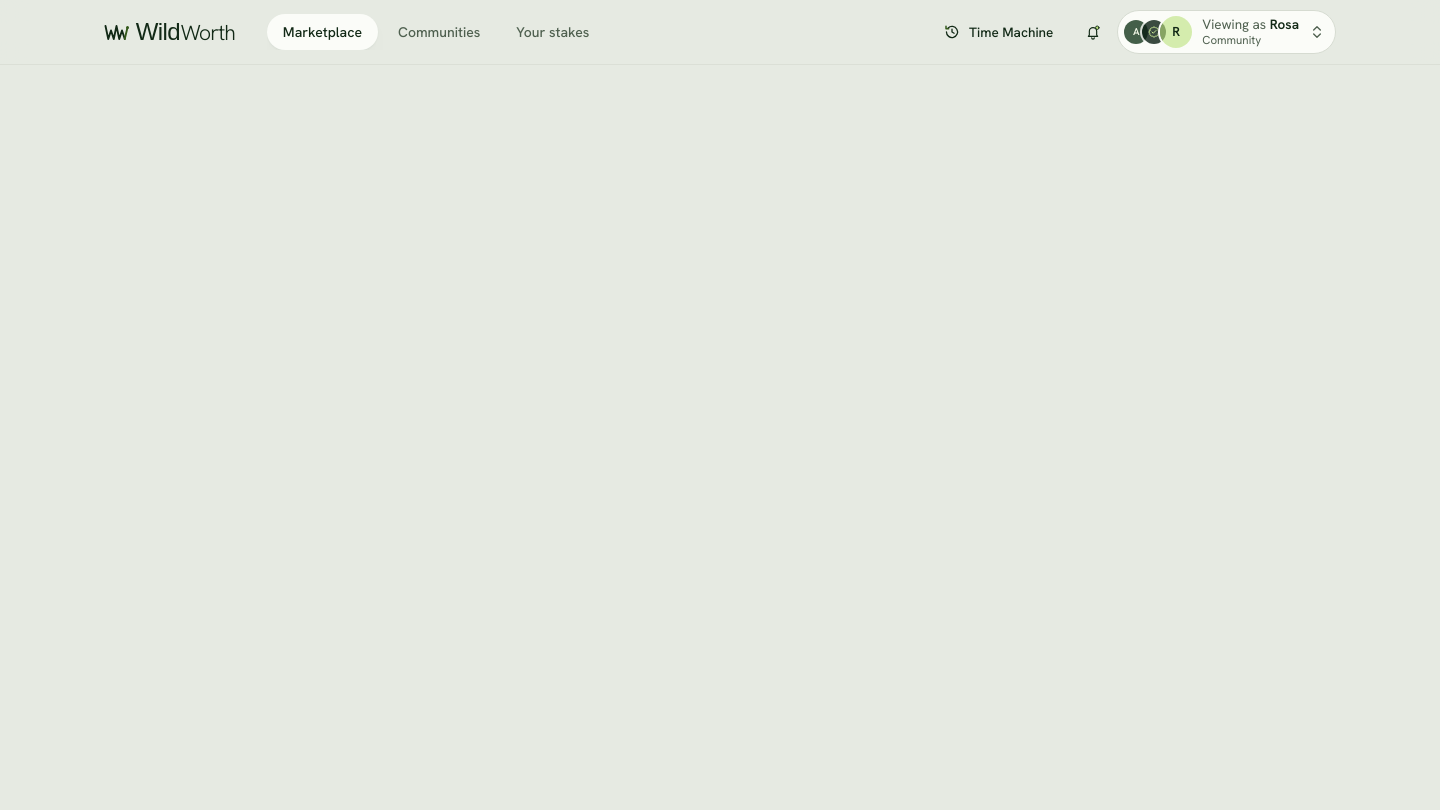
Test: the persona menu, when something fails › goes home only once the sandbox has started over
The image size is (1440, 810).
Press the mouse on the button "Viewing as Rosa Community" at (1227, 32), box [1117, 10, 1336, 54]
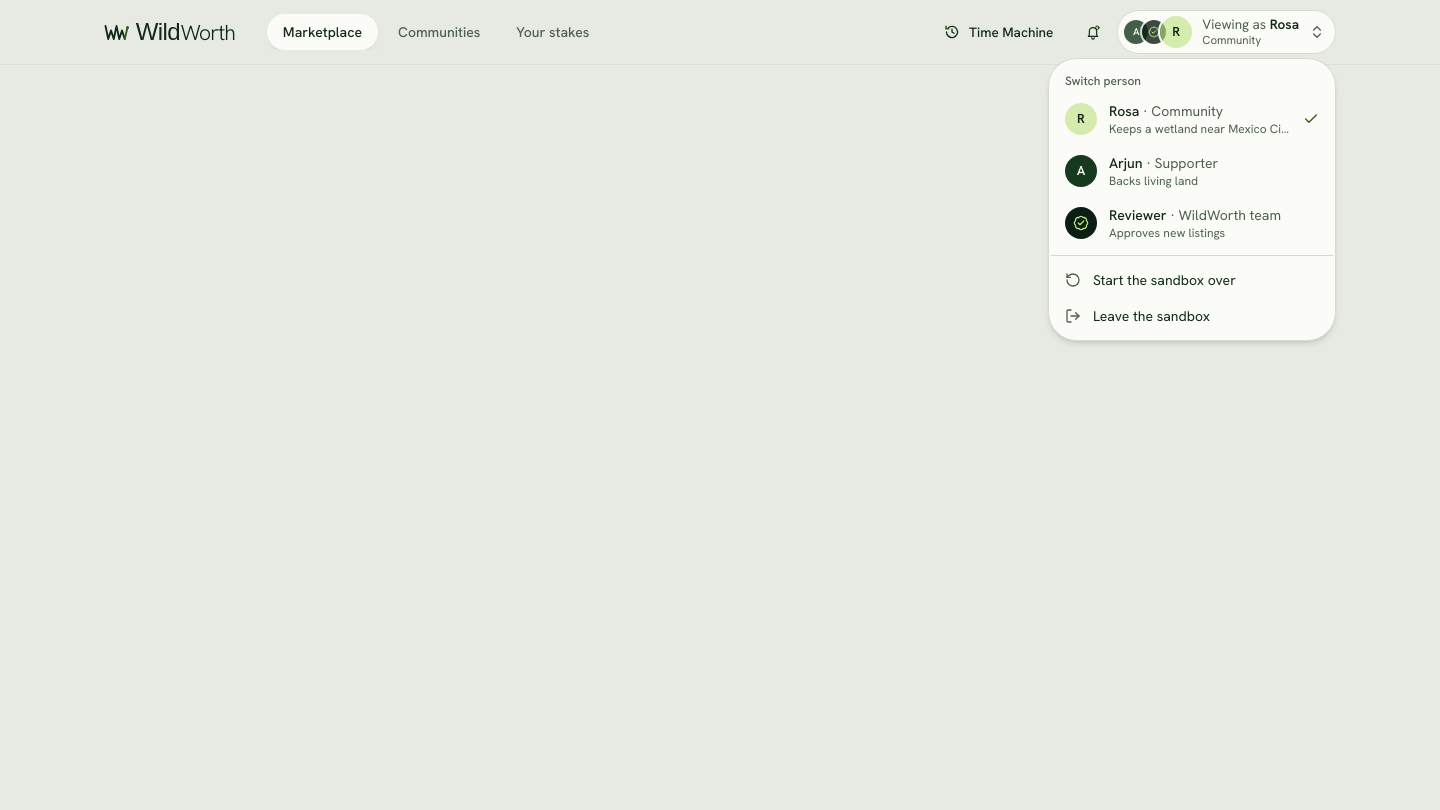
Click the menu item "Start the sandbox over" at (1150, 280), box [1065, 271, 1236, 289]
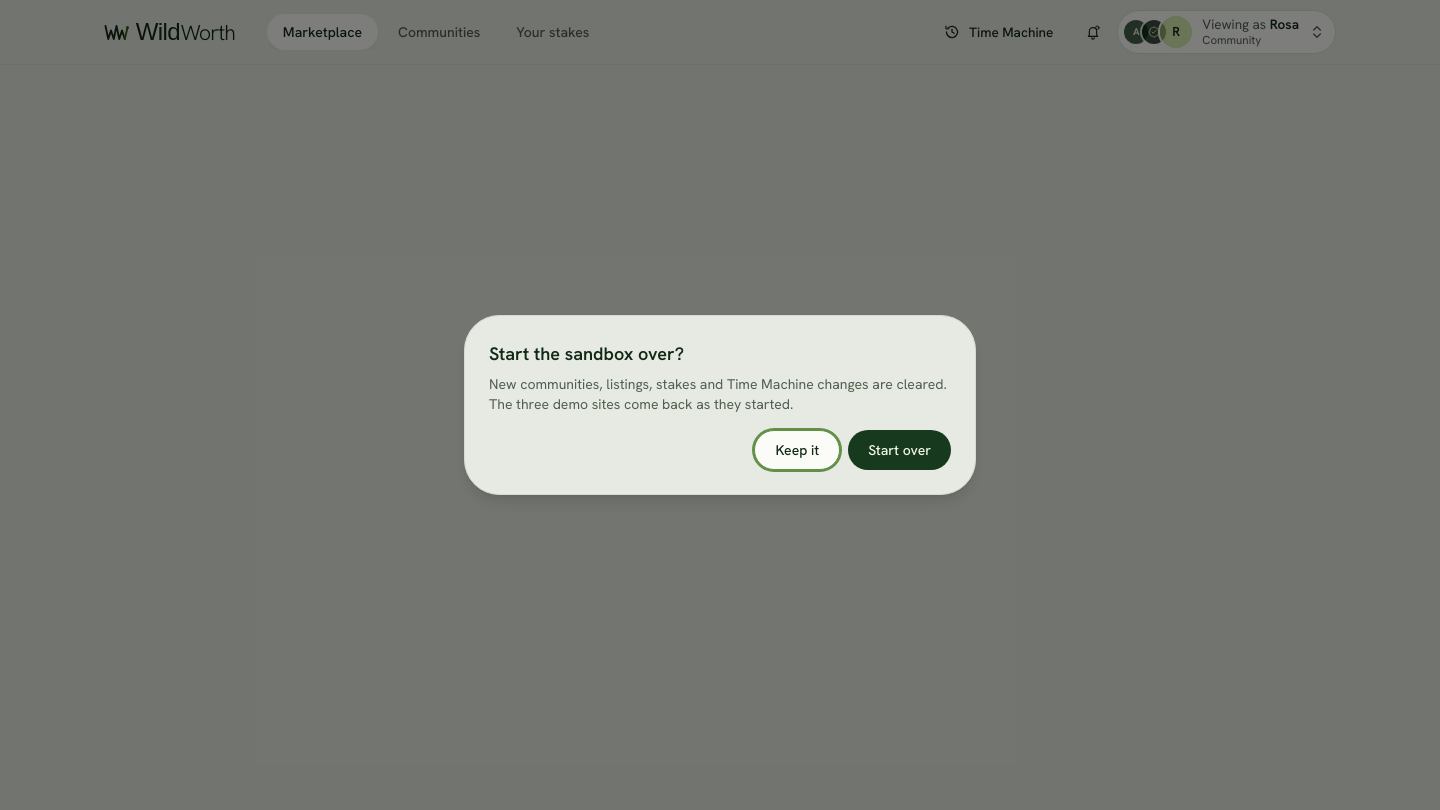
Click the button "Start over" at (900, 450), box [848, 430, 951, 470]
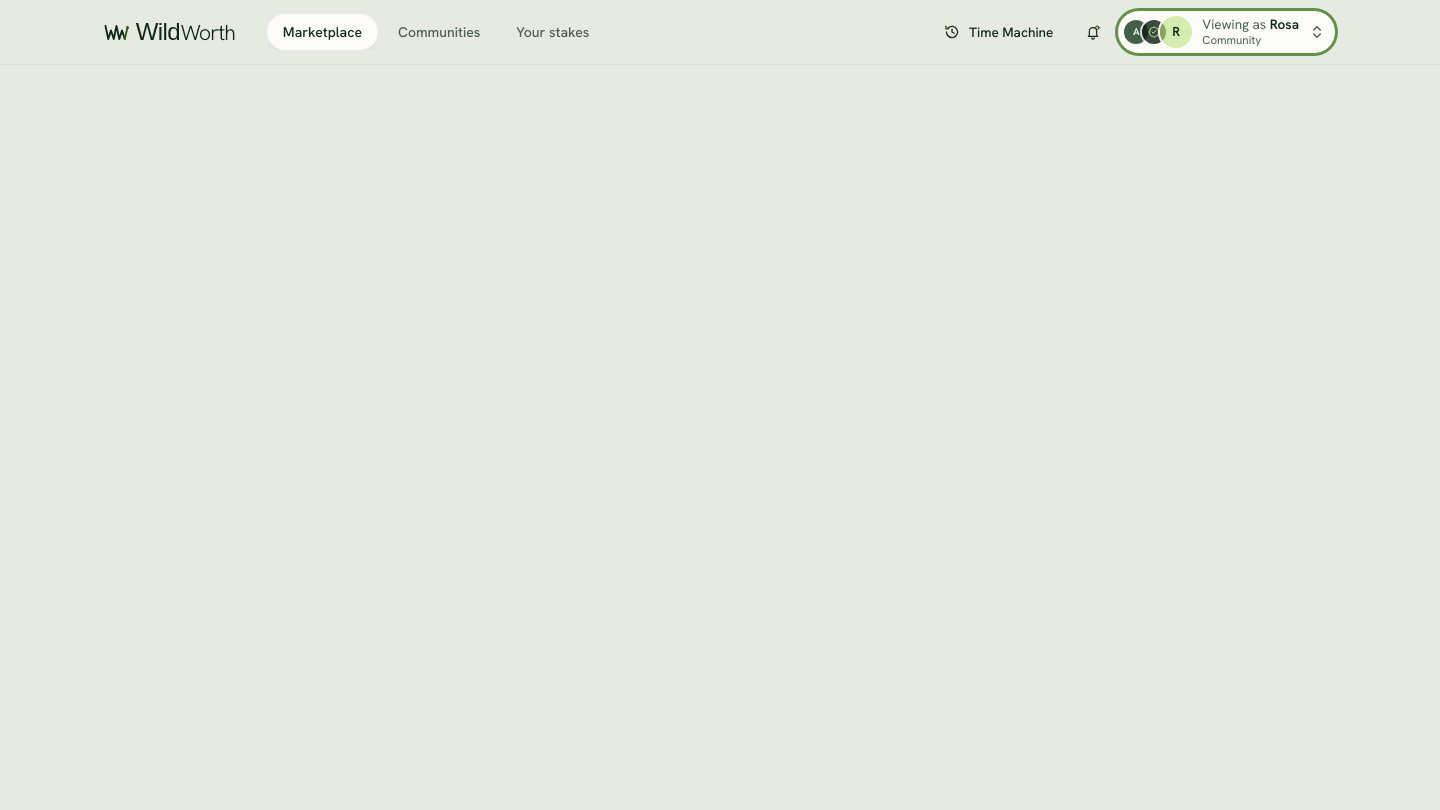
Press the mouse on the button "Viewing as Rosa Community" at (1227, 32), box [1117, 10, 1336, 54]
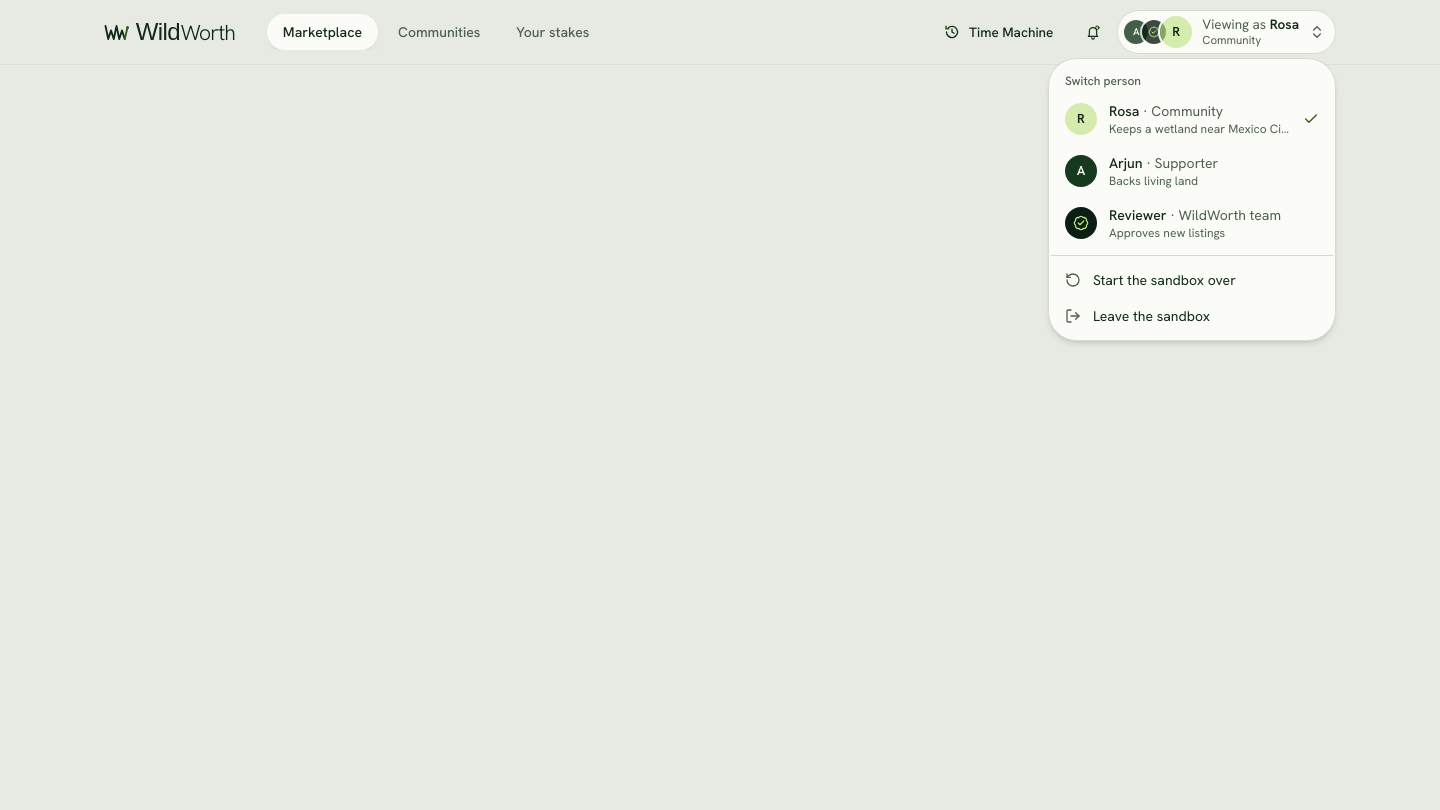
Click the menu item "Start the sandbox over" at (1150, 280), box [1065, 271, 1236, 289]
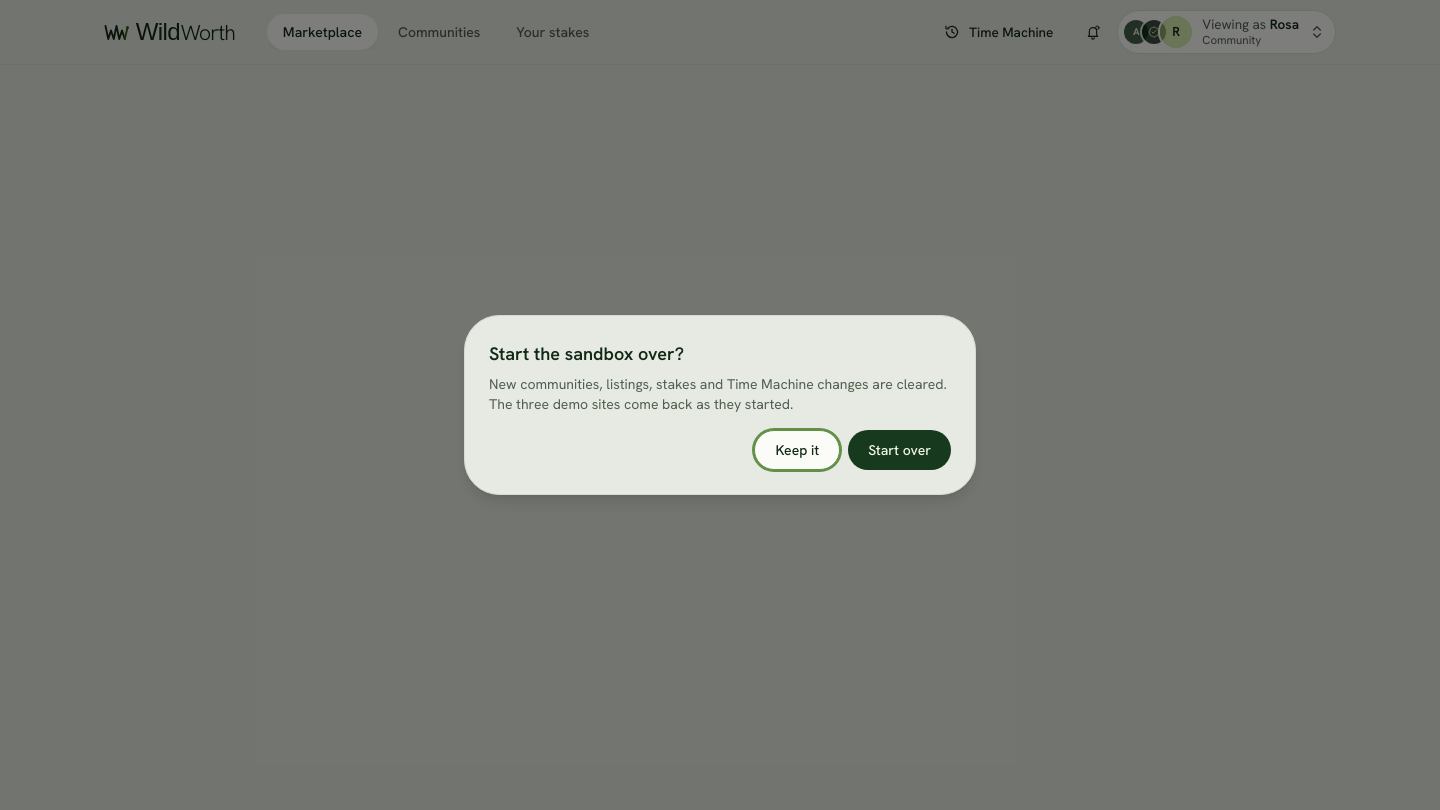
Click the button "Start over" at (900, 450), box [848, 430, 951, 470]
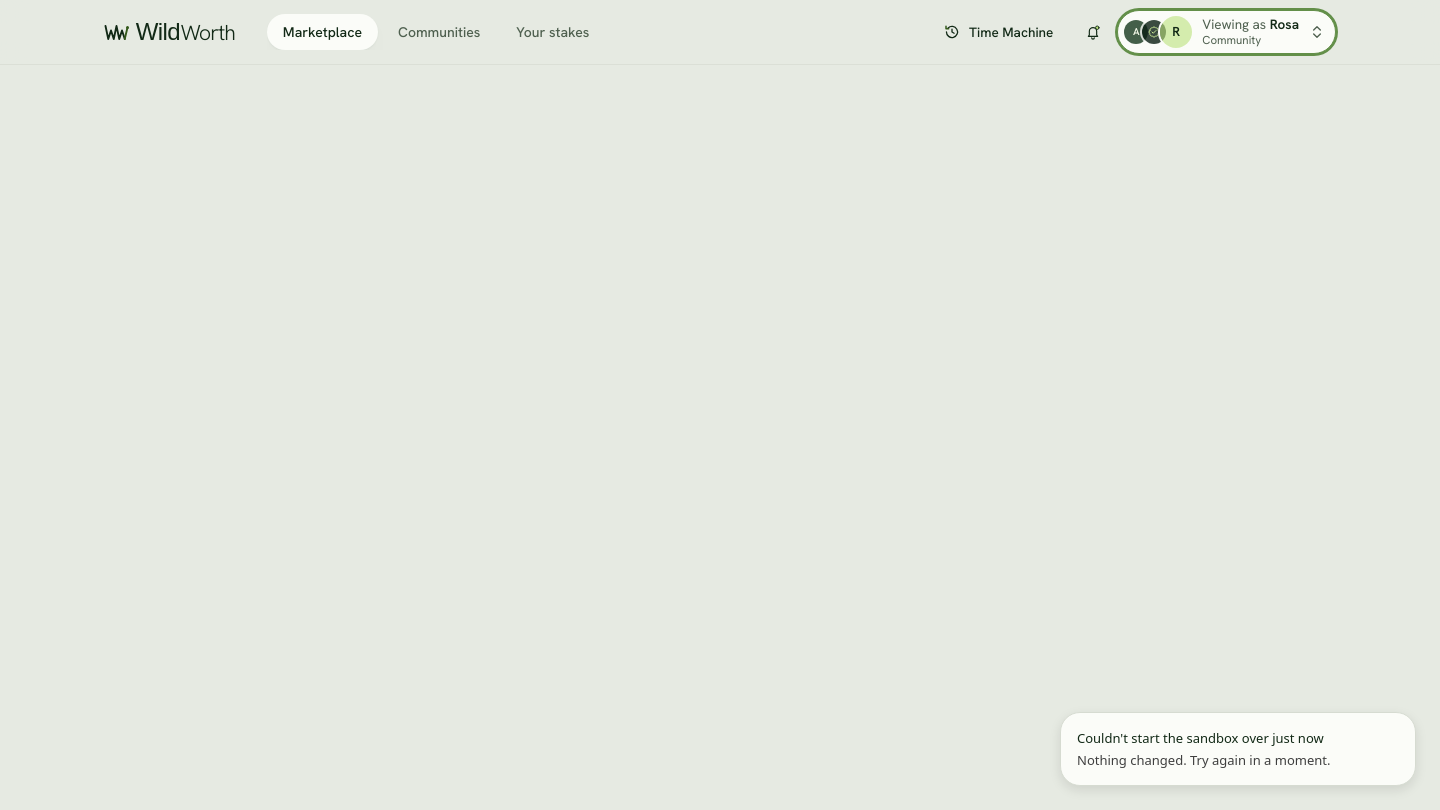
Expected: the text "Couldn't start the sandbox over just now" is shown, [1077, 729, 1330, 749]
